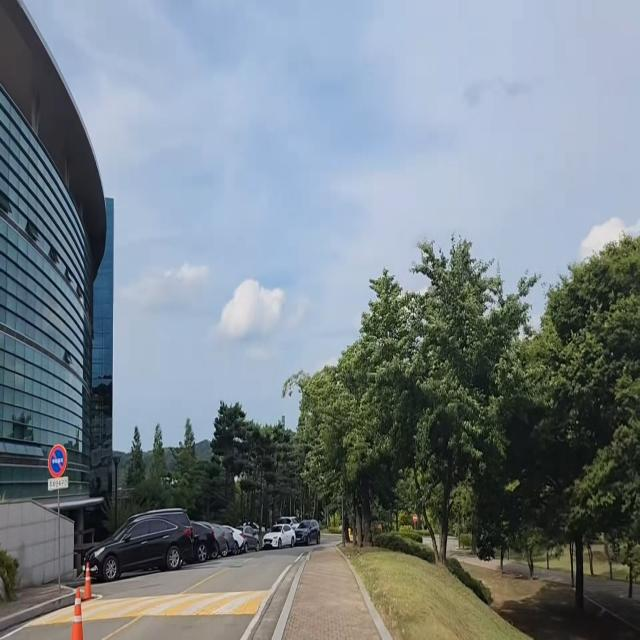obstacle: (76, 504, 198, 593), (188, 512, 322, 566), (46, 439, 69, 593), (67, 584, 87, 640), (82, 563, 92, 601)
road: (0, 546, 310, 640)
sidewalk: (276, 549, 395, 640), (1, 583, 72, 623)
